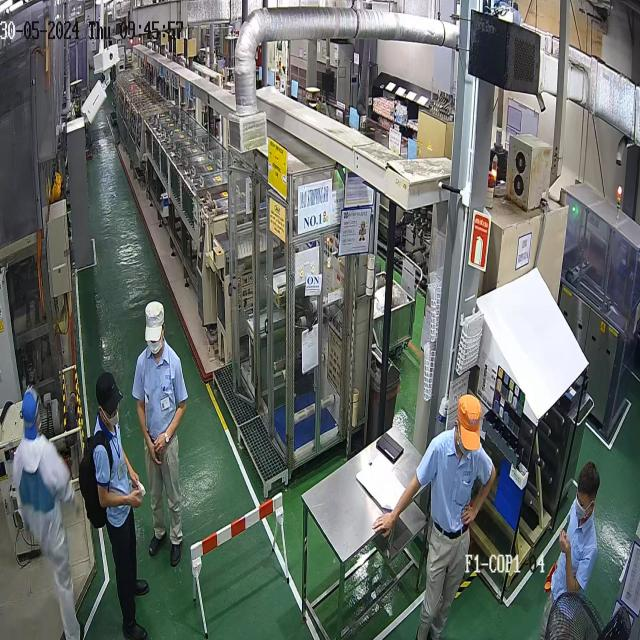Person: (372, 393, 496, 639), (12, 384, 81, 639), (92, 372, 150, 640), (132, 300, 188, 567), (539, 460, 600, 639)
